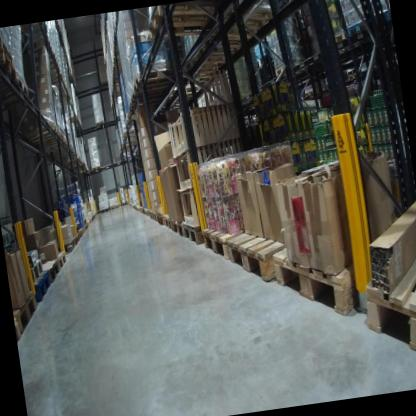pallet: (269, 194, 412, 323), (351, 237, 416, 367), (225, 224, 289, 293), (143, 0, 221, 50), (201, 216, 261, 264), (217, 0, 284, 37), (0, 71, 38, 113), (12, 290, 42, 338), (198, 40, 254, 65), (128, 66, 179, 93), (20, 119, 62, 150), (128, 85, 176, 110), (205, 26, 257, 49), (0, 49, 24, 98), (24, 129, 67, 154), (342, 11, 371, 46), (30, 267, 58, 301), (164, 84, 206, 104), (180, 218, 206, 249), (325, 24, 352, 52), (26, 258, 51, 286), (273, 58, 300, 81), (50, 248, 69, 280), (171, 213, 190, 241), (45, 258, 64, 284), (0, 36, 15, 65), (55, 239, 76, 256), (155, 206, 170, 226), (14, 318, 24, 344), (120, 126, 141, 138), (164, 213, 175, 234), (304, 86, 319, 101), (87, 164, 103, 176), (347, 70, 360, 82), (108, 201, 121, 213), (98, 205, 110, 214), (94, 117, 105, 125), (152, 210, 157, 223), (148, 206, 153, 219), (143, 207, 149, 217), (147, 210, 150, 218)
